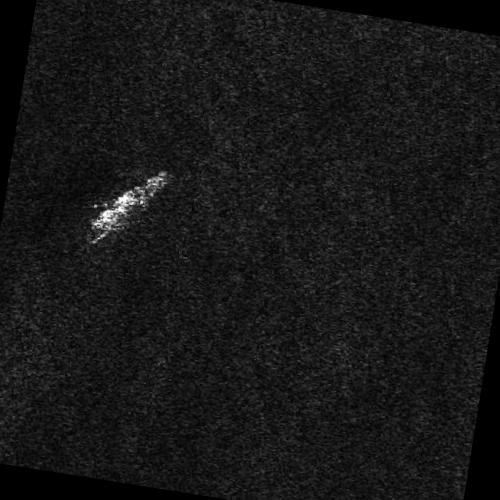ship: (90, 170, 170, 233)
